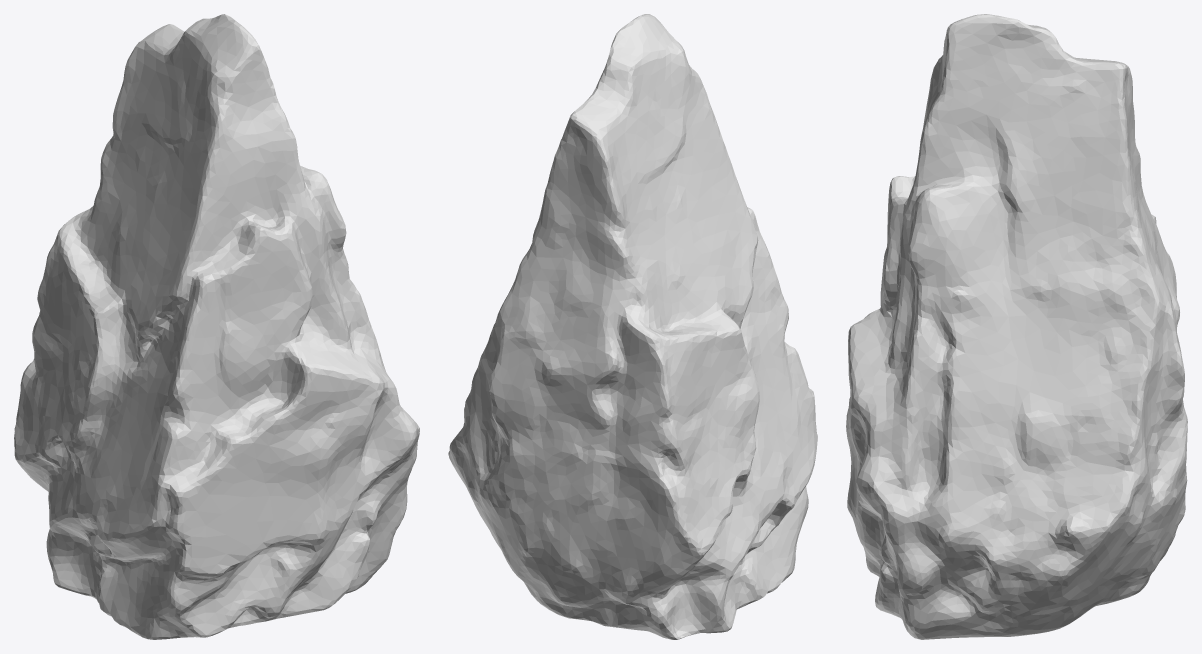
Rendered from boulder02.glb.
The picture shows the model from 3 angles, left to right: view 1: azimuth 30°, elevation 25°; view 2: azimuth 150°, elevation 25°; view 3: azimuth 270°, elevation 25°; orthographic projection. The views are drawn at different scales.
Parts seen in each view (by area): view 1: Low; view 2: Low; view 3: Low.
Boxes of the visible parts, x1,y1,x2,y2 form: Low: (14, 14, 419, 639); Low: (448, 14, 817, 639); Low: (846, 14, 1187, 639).
Size of the model in its own units: 1.07 by 1.99 by 1.06.
Materials: 1 (1 with a texture image).
